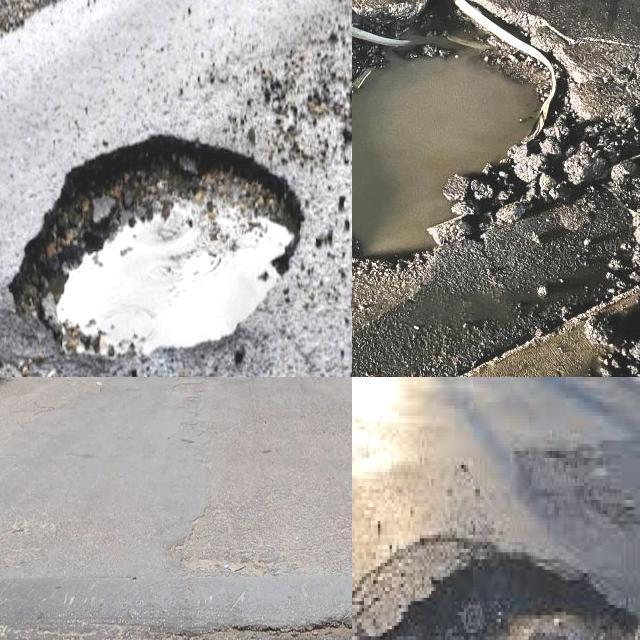Pothole: (10, 139, 301, 362), (352, 0, 571, 262), (352, 535, 640, 640)
